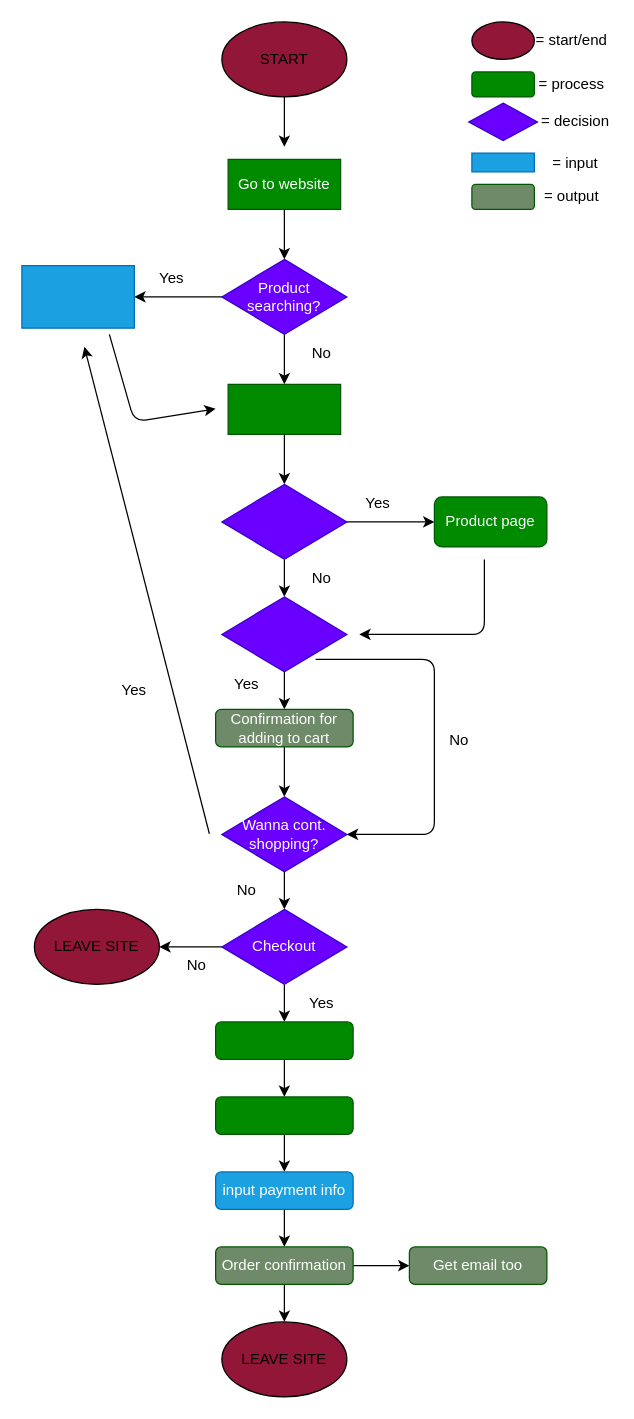
The diagram is 634 pixels wide and 1419 high, and some of its shapes have lost their labels. The centre of each missing label's shape, as x and y in pixels:
Add to cart?: (x=284, y=634)
Browse products: (x=284, y=408)
Enter the search: (x=77, y=296)
Look at cart: (x=283, y=1040)
Look at payment: (x=283, y=1115)
View specific product?: (x=284, y=521)
